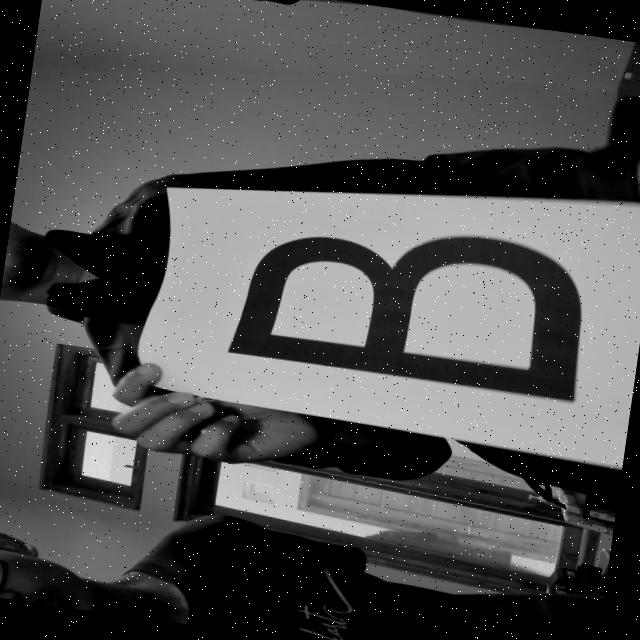b: (215, 197, 617, 420)
